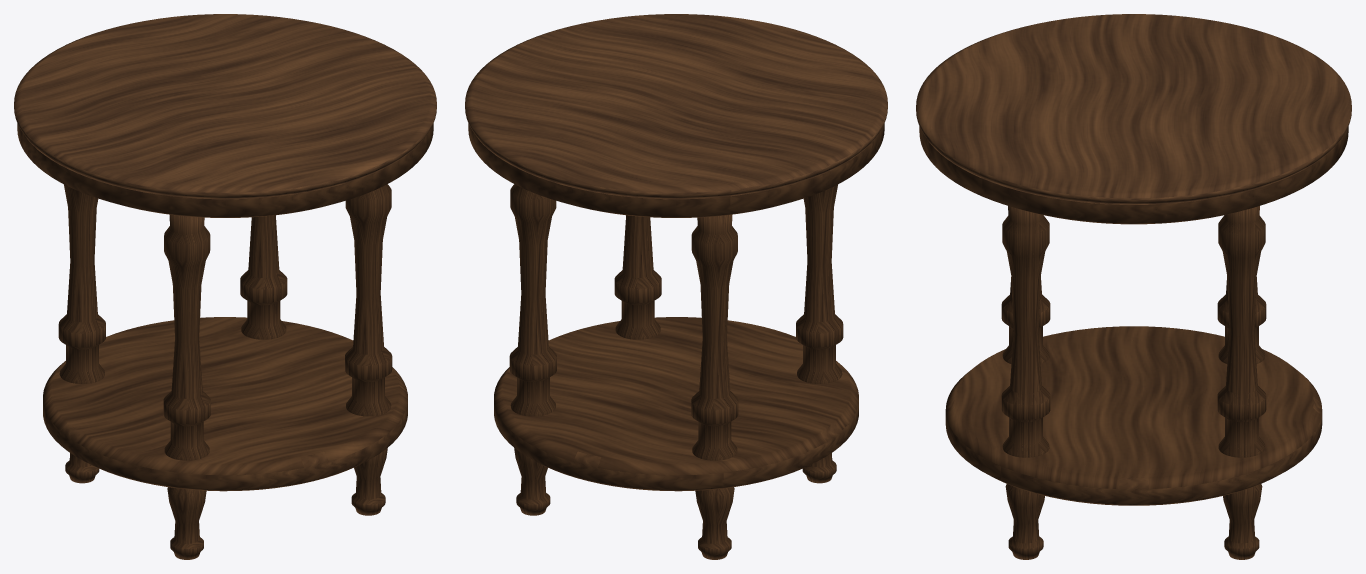
File: dark_academia_mesa_lateral.glb
3 renders of one model, left to right at view 1: azimuth 30°, elevation 25°; view 2: azimuth 150°, elevation 25°; view 3: azimuth 270°, elevation 25°, orthographic. The views are drawn at different scales.
Parts seen in each view (by area): view 1: mesa_lateral; view 2: mesa_lateral; view 3: mesa_lateral.
Part boxes in pixels (x1,y1,x2,y2): mesa_lateral: [14, 14, 436, 559]; mesa_lateral: [465, 14, 887, 559]; mesa_lateral: [916, 14, 1351, 559].
Bounding box in the file's own units: 0.514 × 0.528 × 0.514.
2 materials, 2 textured.
